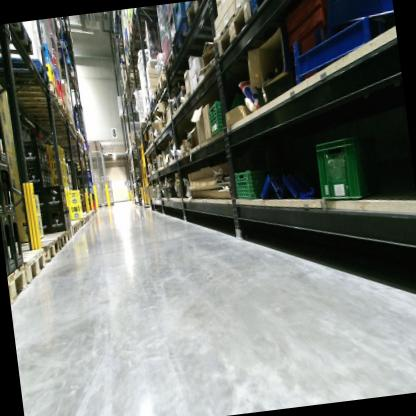pallet: (170, 15, 224, 68), (211, 0, 256, 60), (0, 48, 51, 92), (183, 0, 228, 38), (6, 236, 61, 267), (8, 245, 49, 285), (162, 39, 197, 84), (13, 79, 61, 111), (0, 21, 34, 60), (127, 19, 165, 49), (6, 263, 30, 303), (129, 6, 164, 32), (32, 231, 67, 252), (155, 69, 180, 97), (150, 84, 168, 108), (123, 54, 143, 74), (55, 57, 73, 76), (53, 37, 68, 59), (249, 0, 271, 14), (126, 47, 140, 66), (64, 226, 74, 242), (68, 221, 78, 236), (52, 18, 60, 34), (147, 97, 156, 110), (75, 218, 82, 230), (79, 217, 85, 230)
